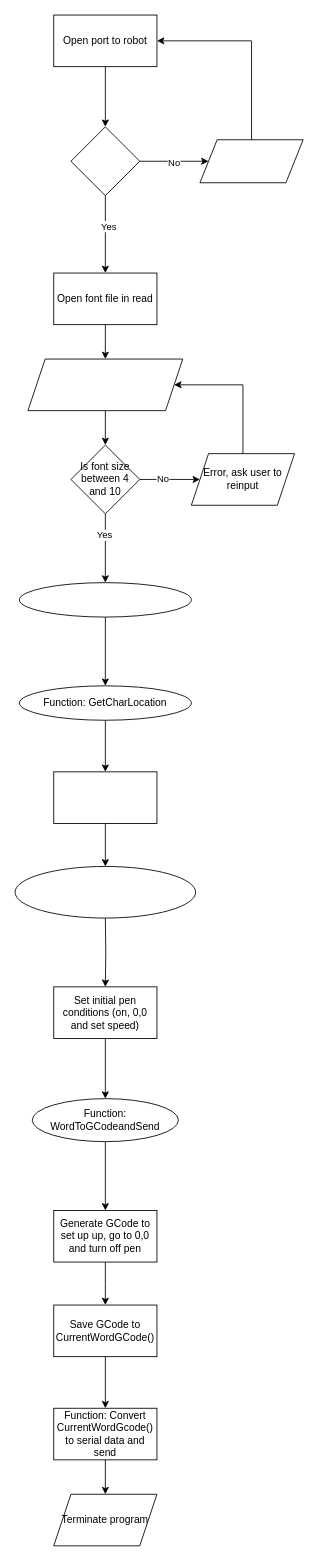
The diagram is 318 pixels wide and 1561 high, and some of its shapes have lost their labels. Here are the shapes that lost their labels. From the top down, the centre of each, then its label:
At point 105,161: "Check if Robot is active".
At point 251,161: "Error".
At point 105,384: "Get Font size from user".
At point 104,599: "Function: Scale and store font data".
At point 105,797: "Open data text file".
At point 105,892: "Function: Separate words (into different sections of WordContents())".
